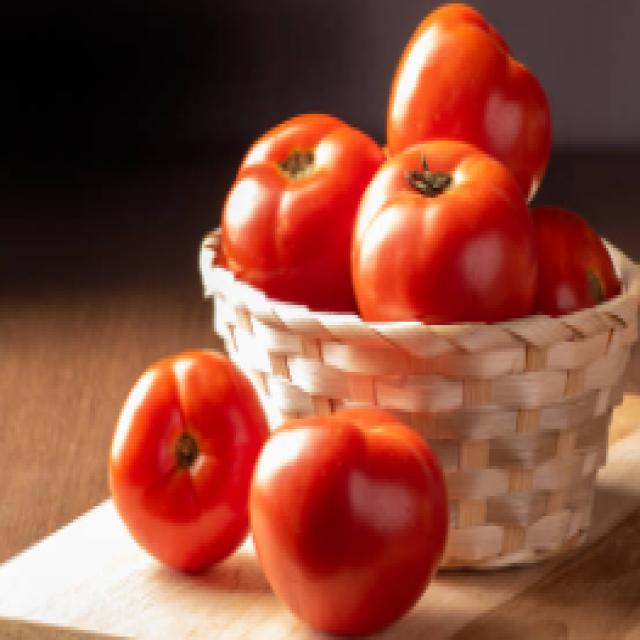Tomato: (109, 339, 281, 596)
